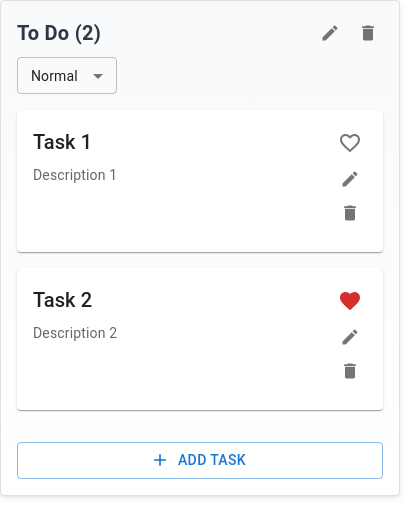
Column Component › Sort Options › should display A-Z sort option
What coordinates should you click on to do the following:
click the dropdown
I would click on:
 (54, 76)
Its box is [31,68,78,84].
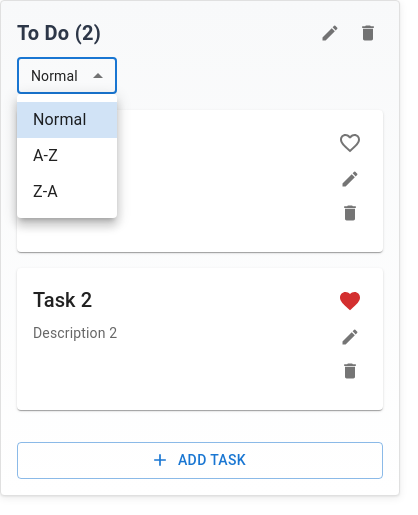
Expected: the option "A-Z" is shown, [33,146,58,165]
